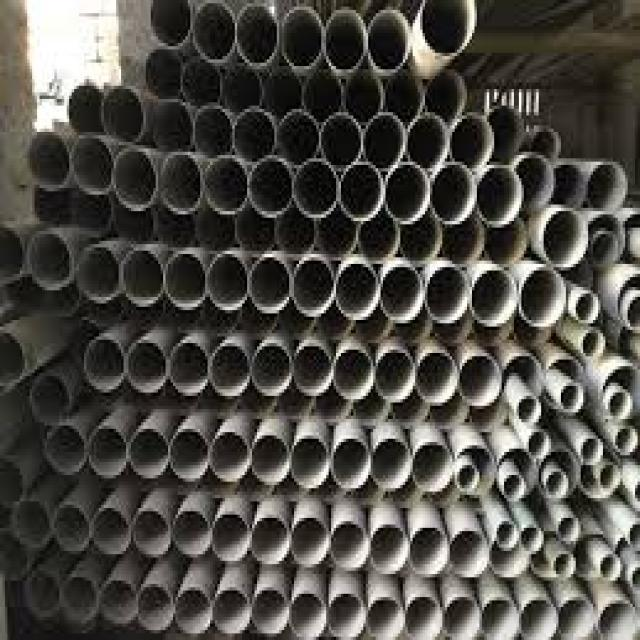pipe: (420, 1, 476, 56), (476, 165, 522, 229), (545, 357, 592, 419), (366, 10, 412, 73), (431, 161, 475, 226), (519, 265, 565, 326), (236, 3, 279, 68), (472, 266, 517, 327), (541, 209, 588, 267), (384, 163, 430, 221), (193, 0, 236, 62), (426, 262, 469, 324), (450, 115, 495, 174), (113, 149, 157, 209), (205, 155, 250, 213), (160, 153, 204, 212), (294, 162, 338, 220), (512, 153, 555, 212), (292, 257, 335, 316), (586, 213, 628, 273), (538, 448, 583, 504), (407, 114, 451, 171), (28, 129, 71, 187), (452, 446, 498, 500), (250, 157, 292, 216), (27, 231, 71, 287), (282, 11, 323, 71), (277, 110, 320, 167), (325, 13, 365, 74), (103, 87, 145, 145), (250, 256, 292, 314), (363, 114, 405, 171), (381, 265, 422, 323), (122, 248, 163, 306), (78, 244, 119, 302), (321, 111, 361, 170), (600, 364, 640, 422), (581, 444, 621, 502), (336, 261, 378, 316), (234, 108, 275, 164), (341, 164, 381, 221), (165, 252, 207, 306), (73, 136, 112, 194), (152, 99, 193, 154), (370, 436, 411, 491), (457, 355, 501, 406), (169, 339, 209, 395), (374, 346, 415, 400), (168, 427, 207, 483), (398, 213, 439, 266), (251, 341, 291, 395), (440, 217, 483, 267), (416, 352, 457, 404), (290, 434, 328, 490), (426, 73, 466, 126), (208, 254, 248, 307), (330, 438, 369, 492), (86, 338, 125, 392), (209, 428, 250, 479), (449, 528, 489, 580), (43, 424, 86, 472), (128, 428, 168, 479), (384, 70, 421, 125), (88, 426, 127, 478), (149, 2, 192, 49), (195, 107, 233, 160), (211, 342, 249, 395), (336, 346, 373, 400), (409, 526, 447, 578), (489, 106, 523, 164), (587, 162, 628, 210), (485, 217, 526, 265), (128, 342, 166, 393), (369, 522, 407, 573), (31, 375, 70, 424), (345, 70, 381, 123), (25, 569, 62, 620), (252, 435, 290, 484), (174, 585, 212, 634), (251, 514, 288, 564), (212, 510, 249, 560), (413, 444, 452, 491), (292, 520, 330, 568), (12, 500, 51, 546), (60, 575, 99, 621), (251, 587, 289, 634), (305, 70, 342, 118), (137, 585, 174, 633), (214, 586, 251, 634), (92, 506, 128, 555), (182, 60, 222, 104), (146, 48, 181, 98), (289, 592, 326, 639), (133, 509, 169, 557), (172, 511, 209, 557), (55, 501, 89, 551), (264, 69, 302, 113), (328, 592, 364, 638), (276, 215, 315, 257), (99, 577, 136, 621), (481, 596, 518, 640), (549, 162, 585, 207), (332, 522, 368, 567), (316, 222, 357, 261), (225, 68, 262, 111), (504, 355, 541, 398), (1, 528, 30, 582), (66, 91, 103, 133), (367, 598, 404, 640), (406, 597, 442, 639), (518, 599, 556, 638), (557, 597, 595, 636), (445, 597, 478, 640), (618, 273, 640, 336), (490, 543, 530, 577), (360, 227, 398, 262), (1, 328, 23, 387), (599, 600, 636, 633), (1, 224, 22, 280), (0, 458, 23, 507), (591, 230, 619, 266), (531, 129, 559, 162), (580, 326, 606, 359), (609, 386, 633, 419), (597, 463, 620, 497), (519, 525, 544, 555), (518, 395, 541, 427), (574, 292, 598, 322), (527, 429, 550, 459), (561, 380, 582, 412), (558, 516, 581, 545), (495, 520, 517, 550), (614, 428, 638, 454), (504, 473, 524, 502), (580, 436, 602, 462), (553, 553, 574, 577), (600, 556, 621, 578), (627, 294, 638, 328), (629, 521, 640, 550), (631, 565, 640, 593)
